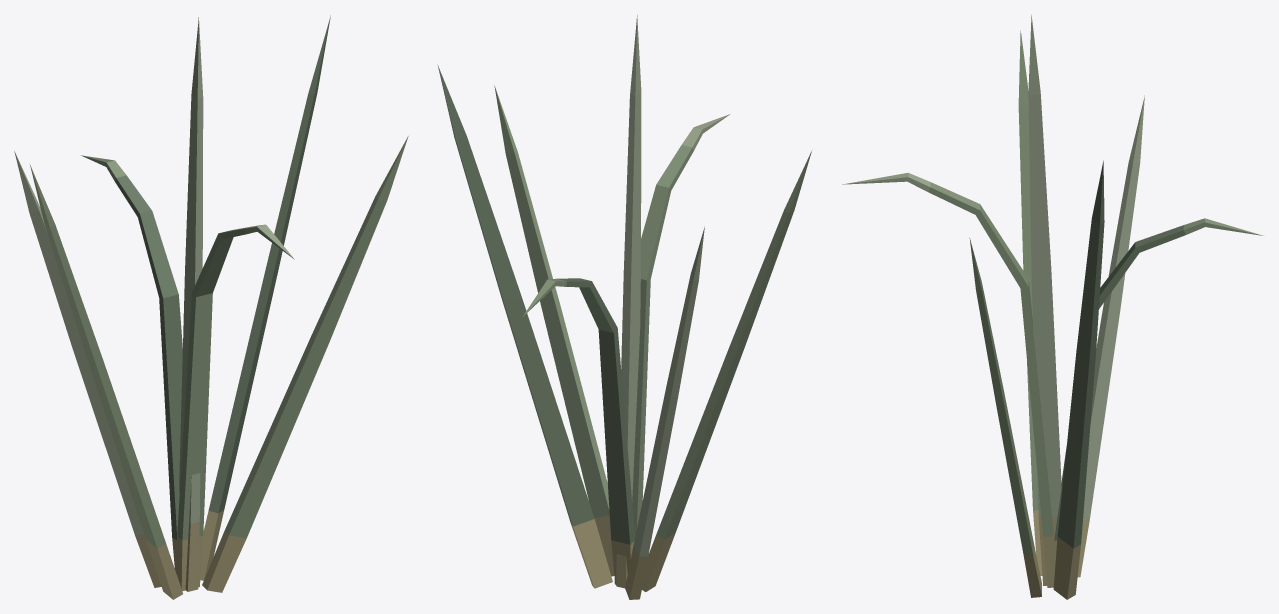
Rendered from marram.gltf.
3 renders of one model, left to right at view 1: azimuth 30°, elevation 25°; view 2: azimuth 150°, elevation 25°; view 3: azimuth 270°, elevation 25°, orthographic. The views are drawn at different scales.
Parts seen in each view (by area): view 1: marram; view 2: marram; view 3: marram.
Part boxes in pixels (box(x1,y1,x2,y2)): marram: box(14, 15, 408, 599); marram: box(437, 15, 811, 599); marram: box(842, 14, 1263, 599).
Bounding box in the file's own units: 0.4724 × 0.7434 × 0.4986.
